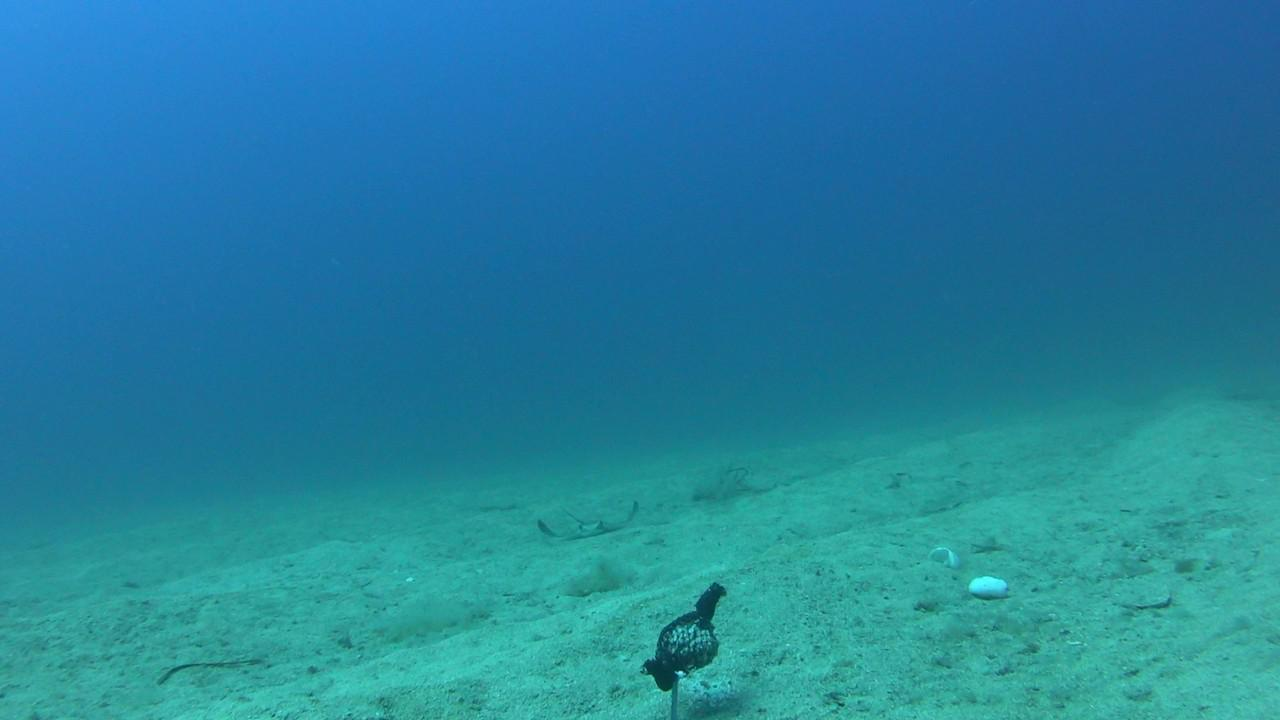myliobatis: (501, 474, 658, 548)
